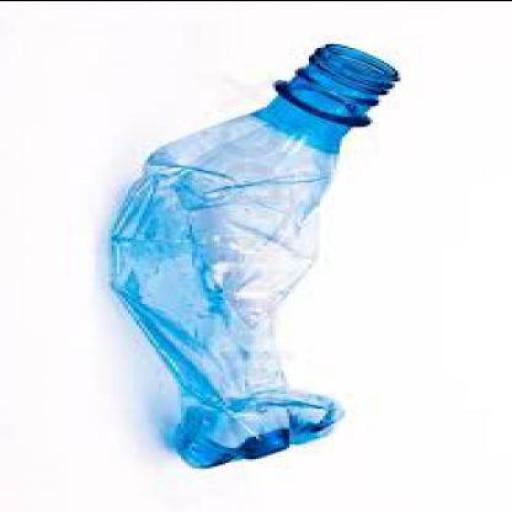plastic: (108, 45, 404, 471)
